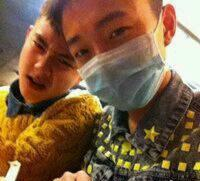NONE: (23, 30, 77, 102)
OK: (69, 10, 163, 109)
